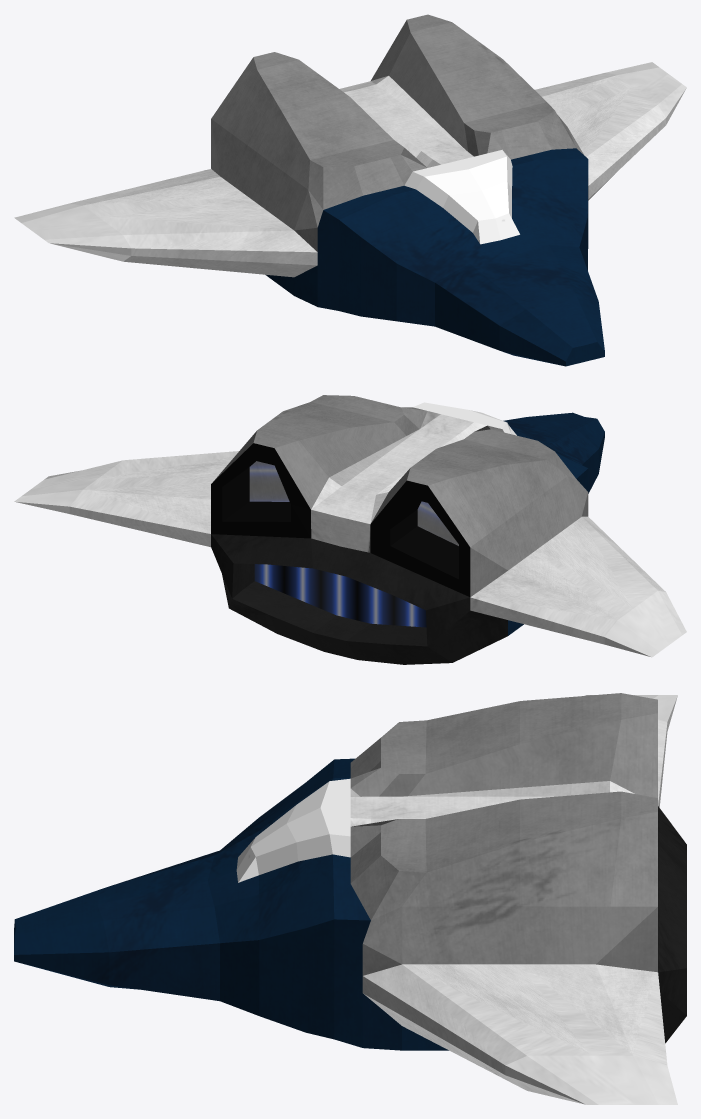
File: shipmodel.fbx
3 views of the same model, one above another, from view 1: azimuth 30°, elevation 25°; view 2: azimuth 150°, elevation 25°; view 3: azimuth 270°, elevation 25° (orthographic). The views are drawn at different scales.
Parts seen in each view (by area): view 1: SpaceShip; view 2: SpaceShip; view 3: SpaceShip.
Boxes of the visible parts, bbox=[...] form: SpaceShip: bbox=[14, 14, 686, 366]; SpaceShip: bbox=[14, 395, 686, 664]; SpaceShip: bbox=[14, 693, 686, 1104].
Size of the model in its own units: 157 by 45.1 by 109.
Materials: 1 (1 with a texture image).
